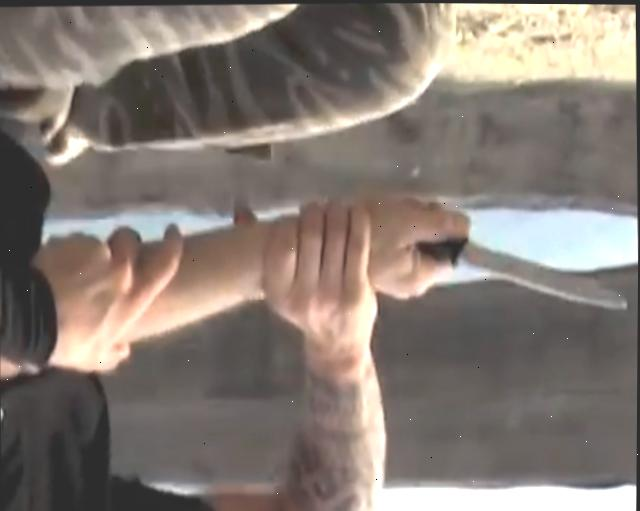long knife: (379, 200, 630, 326)
